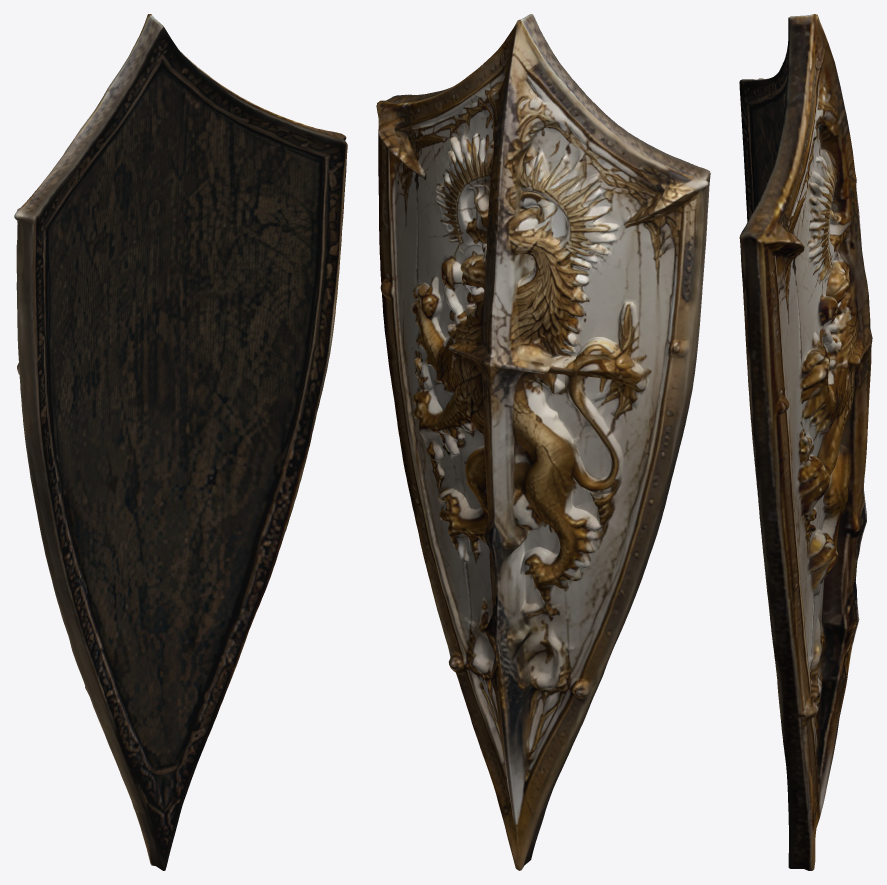
Rendered from kite_gilded_drake.glb.
3 renders of one model, left to right at view 1: azimuth 30°, elevation 25°; view 2: azimuth 150°, elevation 25°; view 3: azimuth 270°, elevation 25°, orthographic.
Parts seen in each view (by area): view 1: kite_gilded_drake; view 2: kite_gilded_drake; view 3: kite_gilded_drake.
Part boxes in pixels (<box>): kite_gilded_drake: <box>14,14,347,870</box>; kite_gilded_drake: <box>376,14,710,870</box>; kite_gilded_drake: <box>739,14,872,870</box>.
Size of the model in its own units: 0.3663 by 0.9009 by 0.127.
Materials: 1 (1 with a texture image).
